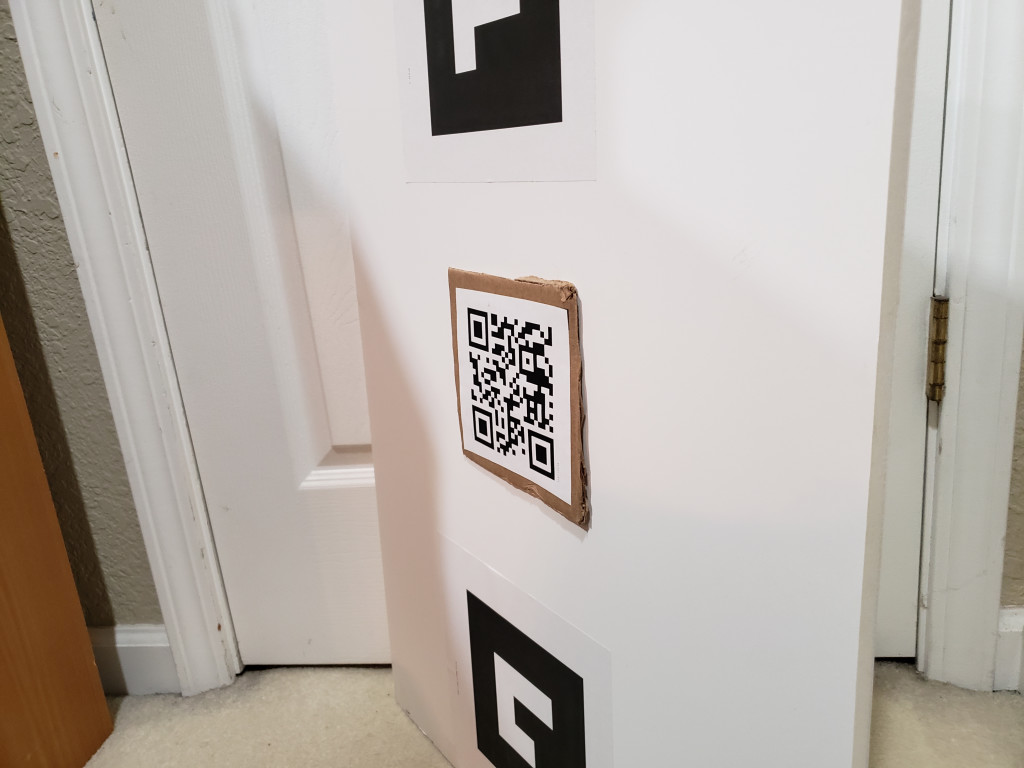QR_CODE: (460, 298, 569, 491)
